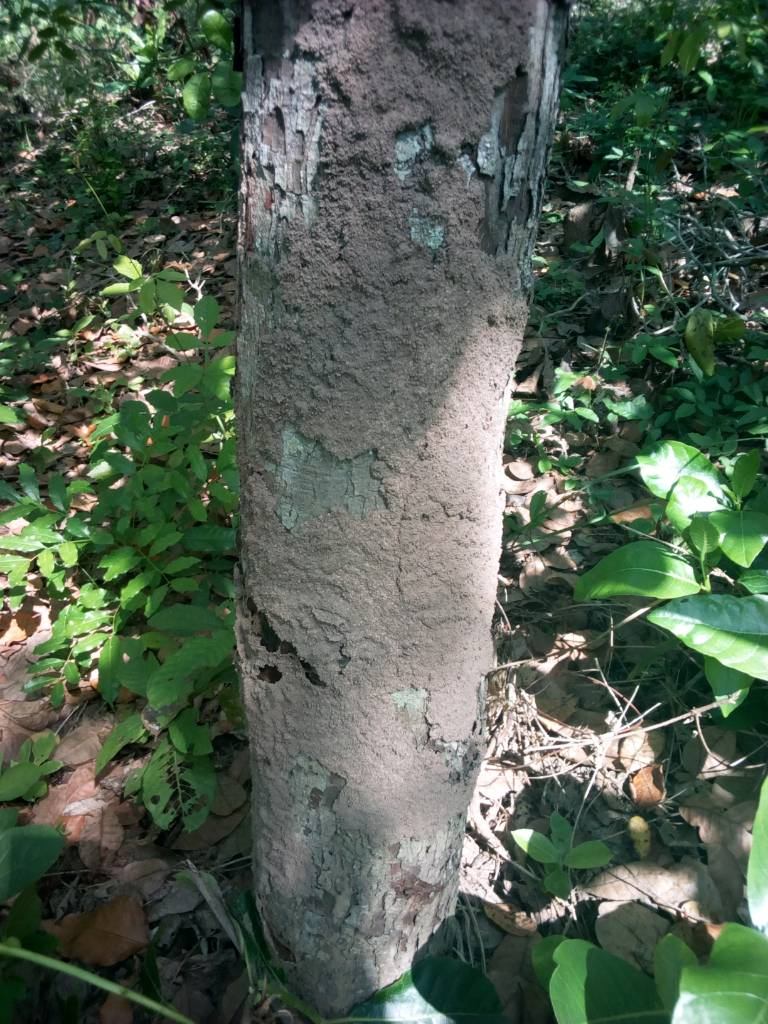Termites: (250, 1, 499, 960)
